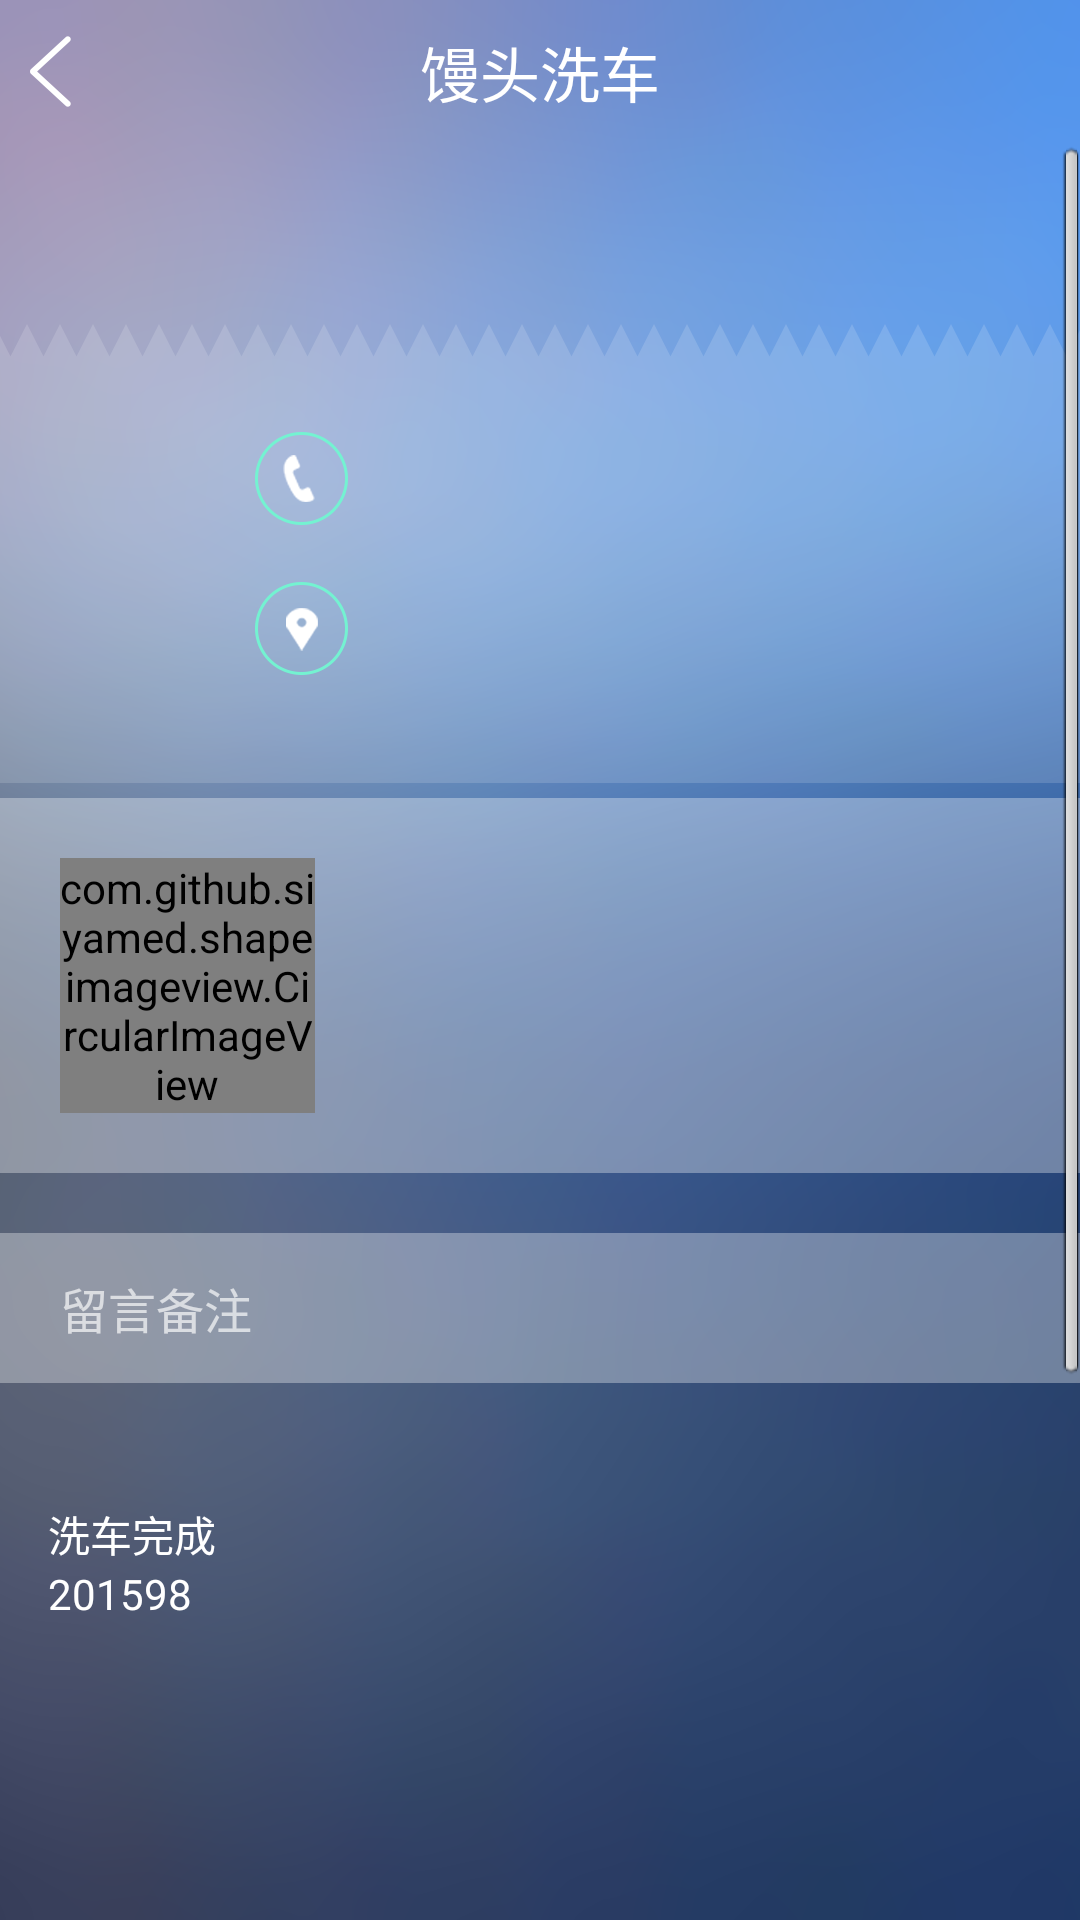

Where icons sit on this 1080px×1920px app screen, as (left=x1, top=y1, right=x2, bottom=y2):
titlebar back: (left=30, top=36, right=71, bottom=107)
